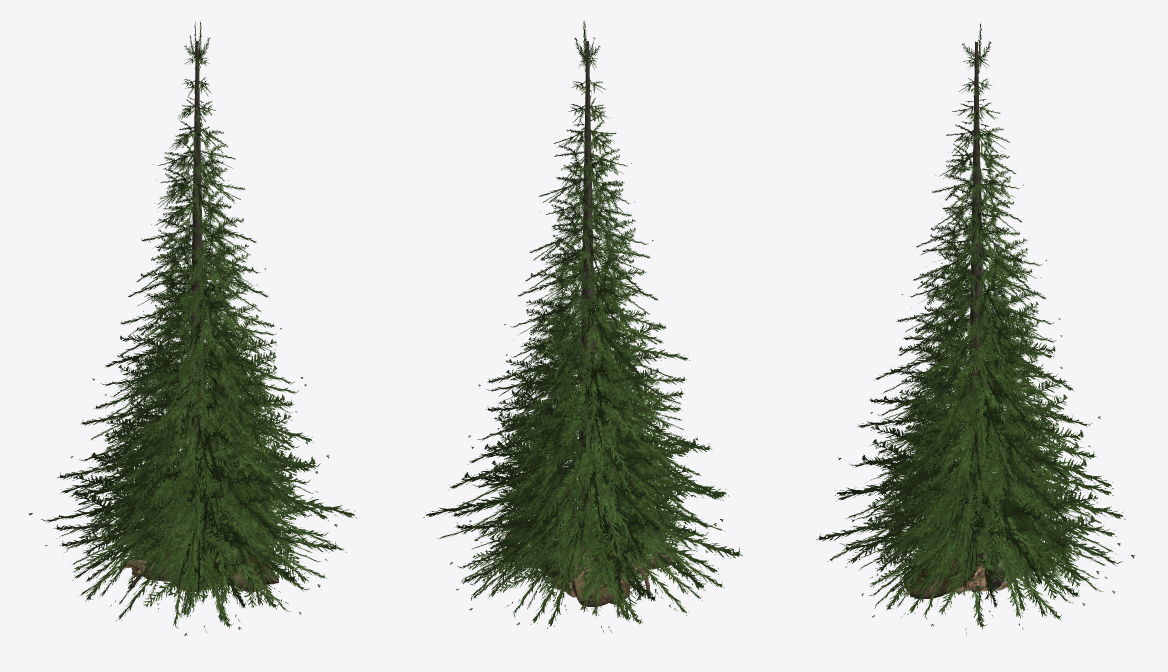
File: dressing.glb
The picture shows the model from 3 angles, left to right: view 1: azimuth 30°, elevation 25°; view 2: azimuth 150°, elevation 25°; view 3: azimuth 270°, elevation 25°; orthographic projection.
Parts seen in each view (by area): view 1: fir_a, fir_b, rock_a; view 2: fir_a, fir_b, rock_a; view 3: fir_a, fir_b, rock_a.
Part boxes in pixels (x1,y1,x2,y2): fir_a: [28, 21, 356, 635]; fir_b: [59, 171, 337, 632]; rock_a: [131, 520, 278, 591]; fir_a: [423, 20, 742, 632]; fir_b: [462, 167, 718, 632]; rock_a: [568, 528, 630, 606]; fir_a: [816, 22, 1134, 634]; fir_b: [843, 168, 1120, 629]; rock_a: [903, 540, 1043, 598].
Size of the model in its own units: 7.65 by 14.5 by 7.81.
Materials: 14 (13 with a texture image).
